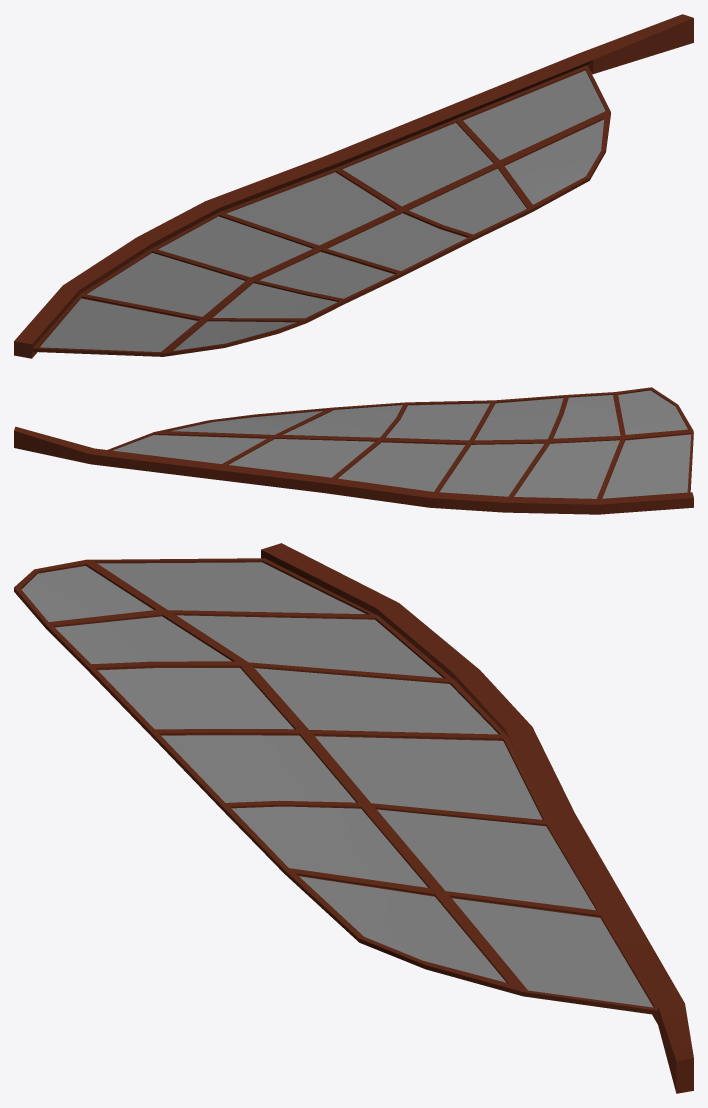
The model's file is ST_Wing_02.fbx.
3 renders of one model, top to bottom at view 1: azimuth 30°, elevation 25°; view 2: azimuth 150°, elevation 25°; view 3: azimuth 270°, elevation 25°, orthographic. The views are drawn at different scales.
Visible parts, largest first — view 1: _Wing_02; view 2: _Wing_02; view 3: _Wing_02.
Part boxes in pixels (left/top/right/bottom): _Wing_02: left=14, top=14, right=693, bottom=358; _Wing_02: left=14, top=387, right=693, bottom=514; _Wing_02: left=14, top=543, right=693, bottom=1093.
Size of the model in its own units: 5181 by 357 by 2799.
